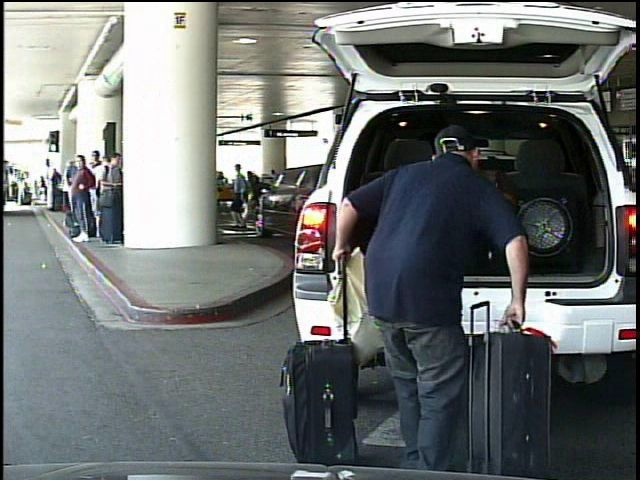person: (324, 117, 546, 480), (231, 162, 255, 239), (244, 164, 267, 231), (18, 176, 28, 207), (38, 174, 49, 202)
